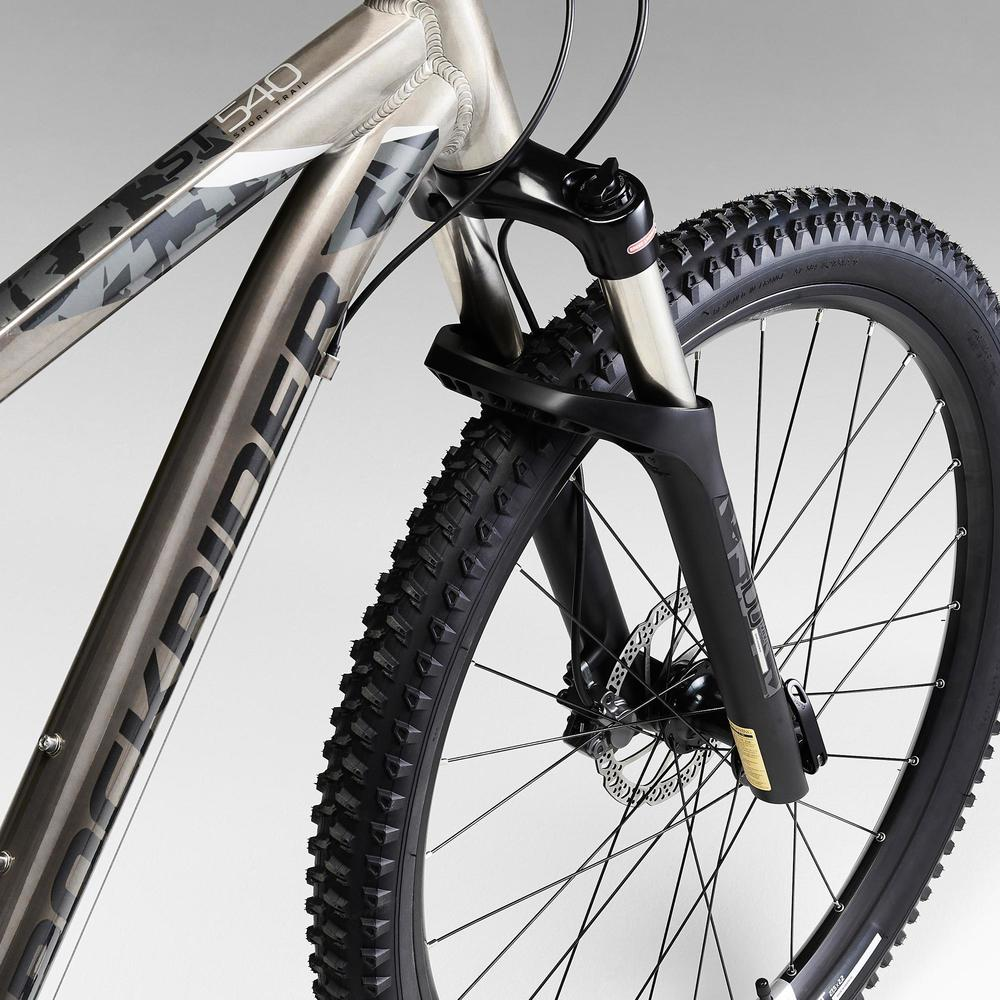MountainBike: (0, 0, 993, 991)
